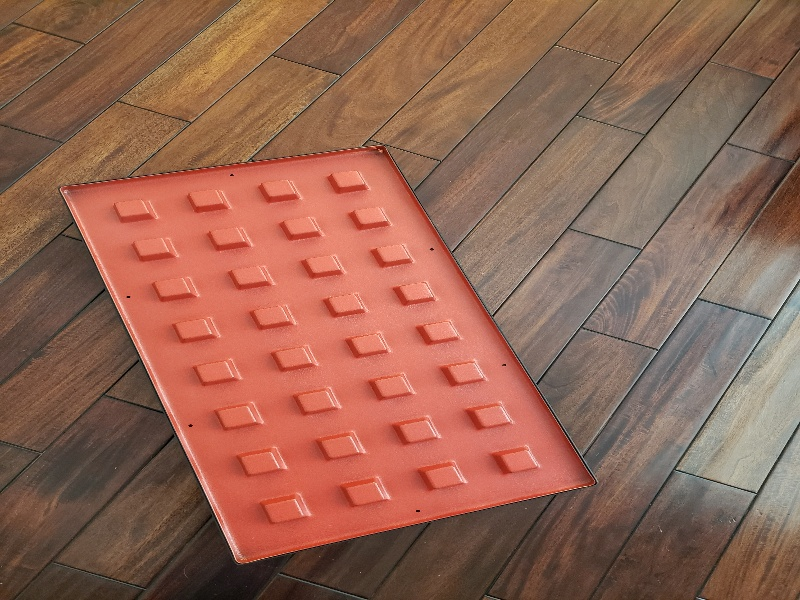ftc_base: (50, 135, 607, 572)
